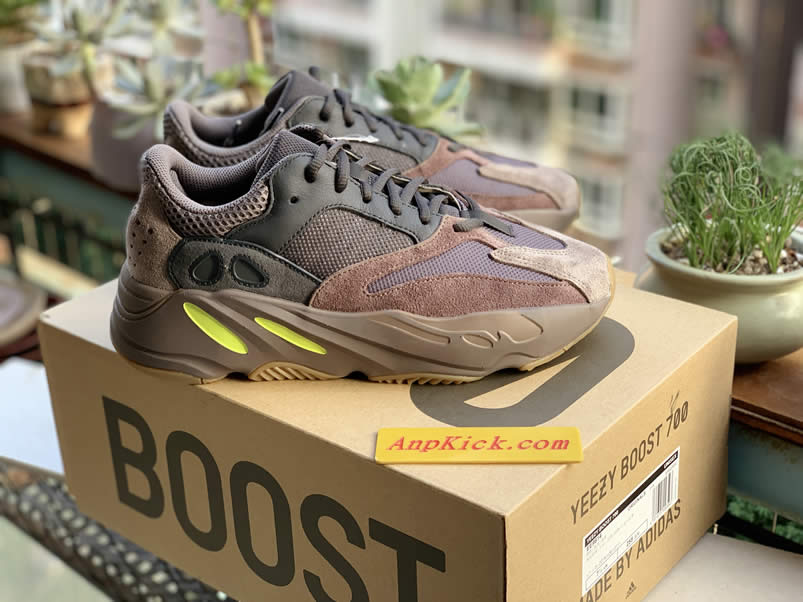adidas Yeezy 700 Mauve: (84, 128, 623, 393)
